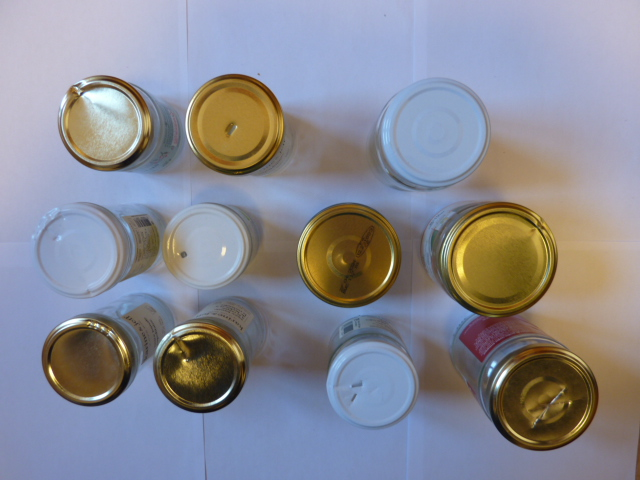damaged: (490, 347, 600, 451), (324, 342, 420, 430)
intact: (296, 204, 402, 307)
